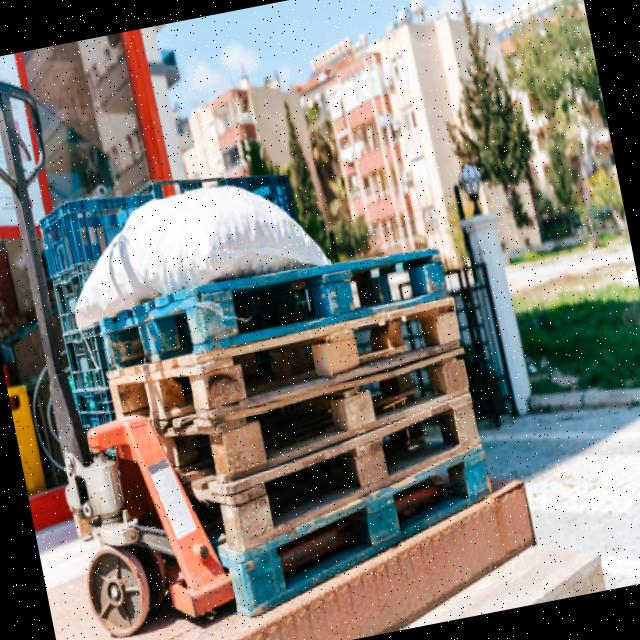Wooden-Pallets: (102, 250, 489, 615), (217, 439, 494, 623), (101, 250, 452, 380), (190, 401, 481, 548), (157, 349, 472, 484), (105, 302, 463, 418)
